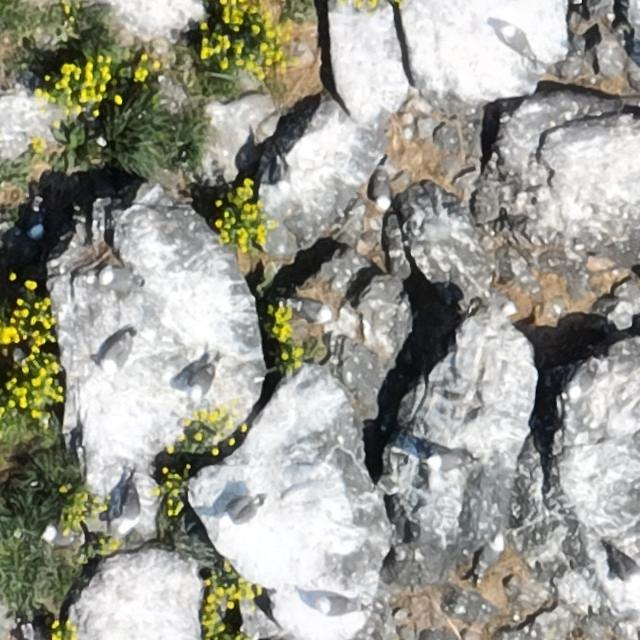umineko: (111, 482, 144, 534), (494, 22, 538, 58), (605, 545, 639, 591), (477, 537, 502, 572), (223, 500, 259, 524), (103, 336, 129, 368), (293, 300, 330, 320), (190, 367, 212, 398), (318, 596, 353, 613), (102, 268, 134, 286), (428, 452, 462, 468), (374, 176, 391, 208), (28, 209, 44, 239), (44, 528, 74, 544)
